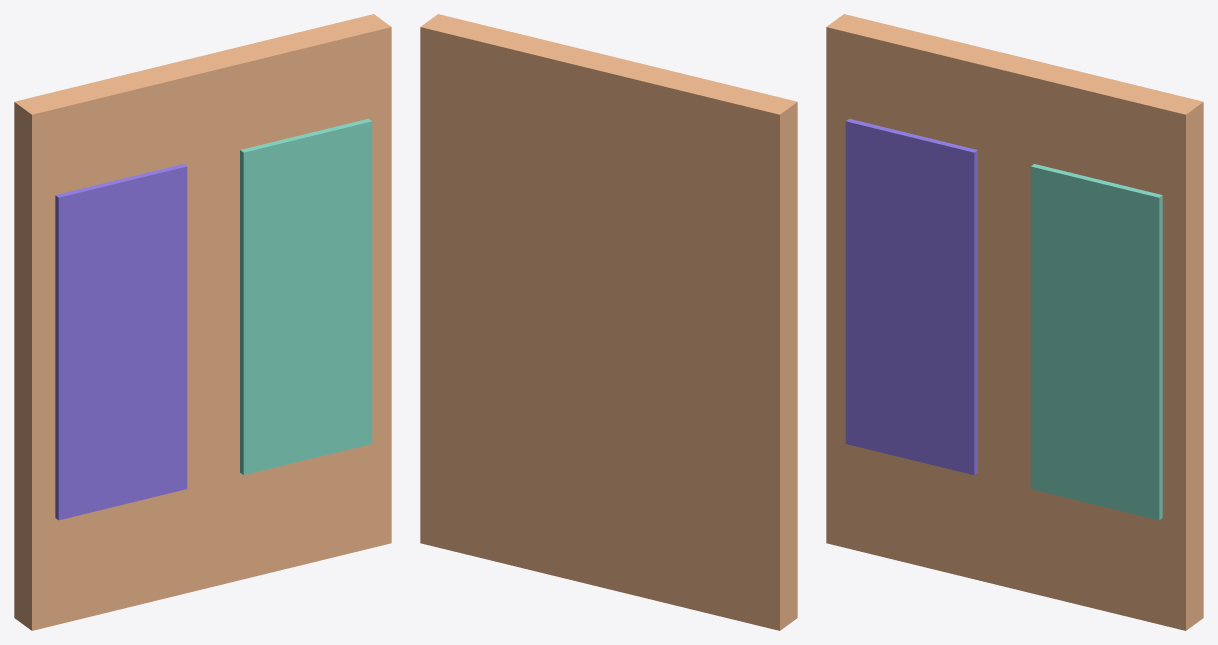
3 views of the same model, side by side, from view 1: azimuth 30°, elevation 25°; view 2: azimuth 150°, elevation 25°; view 3: azimuth 330°, elevation 25° (orthographic).
Parts seen in each view (by area): view 1: Design board, Sample panel, Sample panel.001; view 2: Design board; view 3: Design board, Sample panel.001, Sample panel.
Boxes of the visible parts, x1,y1,x2,y2 form: Design board: (14, 14, 391, 630); Sample panel: (55, 164, 187, 520); Sample panel.001: (240, 118, 372, 474); Design board: (420, 14, 797, 630); Design board: (826, 14, 1203, 630); Sample panel.001: (1030, 164, 1162, 520); Sample panel: (845, 118, 977, 474).
Bounding box in the file's own units: 0.7 × 0.96 × 0.072.
Materials: 1 (1 with a texture image).
